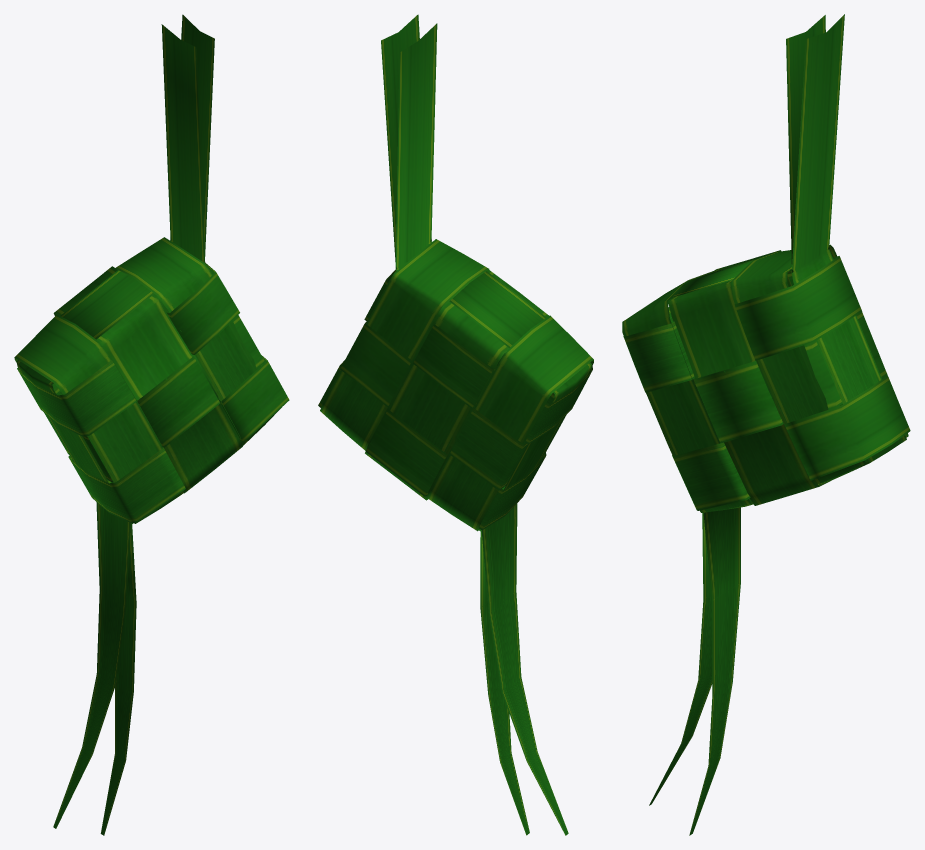
The model's file is ketupat.glb.
The picture shows the model from 3 angles, left to right: view 1: azimuth 30°, elevation 25°; view 2: azimuth 150°, elevation 25°; view 3: azimuth 330°, elevation 25°; orthographic projection. The views are drawn at different scales.
Parts seen in each view (by area): view 1: Object_2; view 2: Object_2; view 3: Object_2.
Part boxes in pixels (<box>): Object_2: <box>14,14,289,835</box>; Object_2: <box>318,14,593,835</box>; Object_2: <box>622,14,910,835</box>.
Bounding box in the file's own units: 0.0659 × 0.2055 × 0.0267.
1 material, 1 textured.
